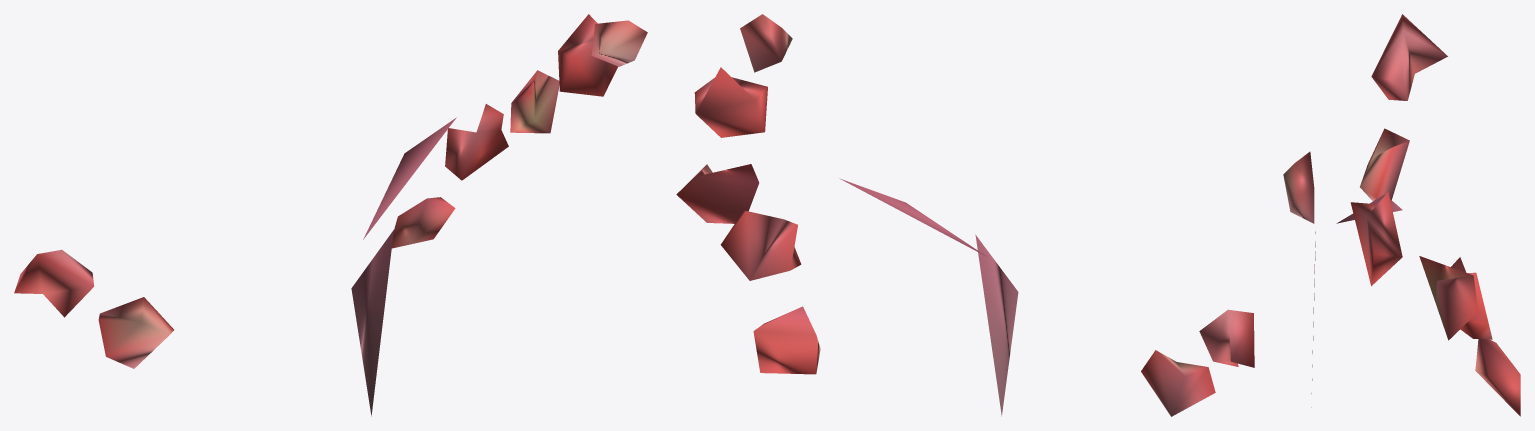
File: mesh_lod_1_9a48bea0-7d19-5717-8785-c5c898e68cb1.glb
3 renders of one model, left to right at view 1: azimuth 30°, elevation 25°; view 2: azimuth 150°, elevation 25°; view 3: azimuth 270°, elevation 25°, orthographic. The views are drawn at different scales.
Parts seen in each view (by area): view 1: LOD 1_9a48bea0-7d19-5717-8785-c5c898e68cb1; view 2: LOD 1_9a48bea0-7d19-5717-8785-c5c898e68cb1; view 3: LOD 1_9a48bea0-7d19-5717-8785-c5c898e68cb1.
Boxes of the visible parts, x1=… form: LOD 1_9a48bea0-7d19-5717-8785-c5c898e68cb1: x1=14, y1=14, x2=647, y2=416; LOD 1_9a48bea0-7d19-5717-8785-c5c898e68cb1: x1=676, y1=14, x2=1254, y2=416; LOD 1_9a48bea0-7d19-5717-8785-c5c898e68cb1: x1=1283, y1=14, x2=1520, y2=416.
Size of the model in its own units: 13.79 by 7.62 by 4.19.
